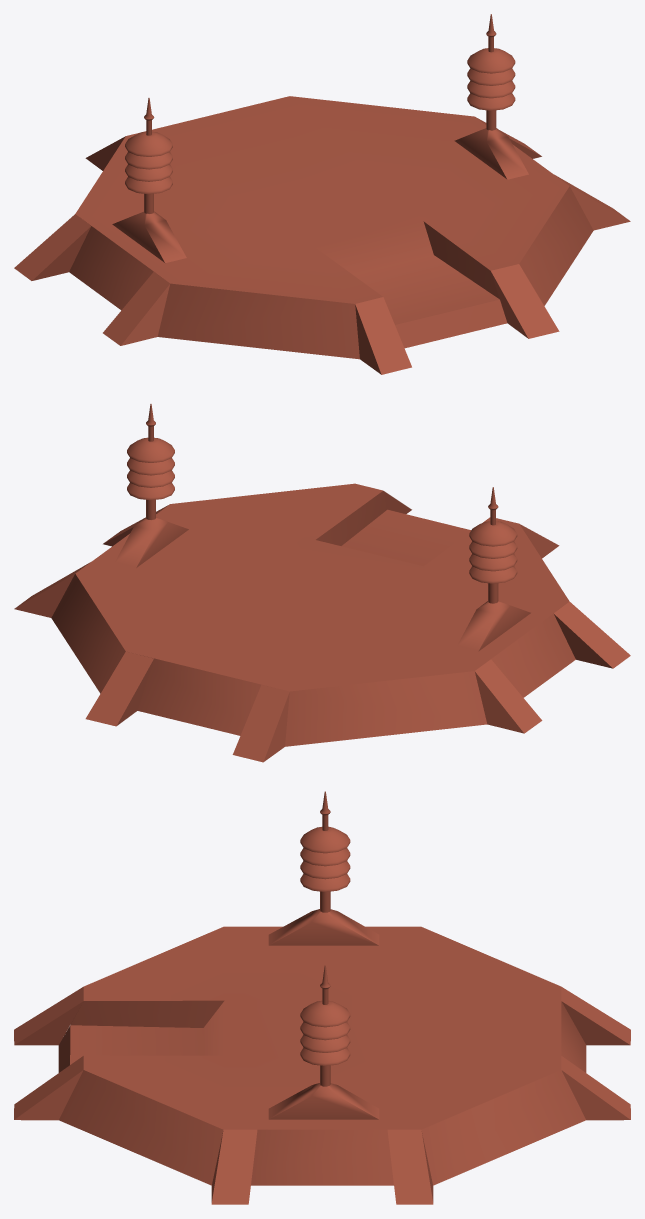
The model's file is Portal_LP.fbx.
3 views of the same model, one above another, from view 1: azimuth 30°, elevation 25°; view 2: azimuth 150°, elevation 25°; view 3: azimuth 270°, elevation 25° (orthographic). The views are drawn at different scales.
Visible parts, largest first — view 1: base, steps, base_isol1 (×2), pCylinder15 (×2), pCylinder2 (×2), pCylinder14 (×2), pCylinder13 (×2); view 2: base, steps, base_isol1 (×2), pCylinder15 (×2), pCylinder2 (×2), pCylinder14 (×2), pCylinder13 (×2); view 3: base, steps, base_isol1 (×2), pCylinder15 (×2), pCylinder14 (×2), pCylinder13 (×2), pCylinder2 (×2).
Part boxes in pixels (x1=…): base: x1=69, y1=96, x2=593, y2=359; steps: x1=14, y1=117, x2=630, y2=374; base_isol1 (×2): x1=112, y1=128, x2=528, y2=263; pCylinder15 (×2): x1=125, y1=48, x2=515, y2=156; pCylinder2 (×2): x1=125, y1=93, x2=515, y2=194; pCylinder14 (×2): x1=125, y1=68, x2=515, y2=169; pCylinder13 (×2): x1=125, y1=81, x2=515, y2=181; base: x1=51, y1=483, x2=575, y2=746; steps: x1=14, y1=491, x2=630, y2=762; base_isol1 (×2): x1=114, y1=517, x2=530, y2=651; pCylinder15 (×2): x1=127, y1=437, x2=517, y2=546; pCylinder2 (×2): x1=127, y1=483, x2=517, y2=583; pCylinder14 (×2): x1=127, y1=458, x2=517, y2=558; pCylinder13 (×2): x1=127, y1=470, x2=517, y2=571; base: x1=58, y1=926, x2=586, y2=1185; steps: x1=14, y1=987, x2=630, y2=1204; base_isol1 (×2): x1=268, y1=909, x2=379, y2=1119; pCylinder15 (×2): x1=300, y1=826, x2=350, y2=1027; pCylinder14 (×2): x1=300, y1=848, x2=350, y2=1040; pCylinder13 (×2): x1=300, y1=861, x2=350, y2=1052; pCylinder2 (×2): x1=300, y1=874, x2=350, y2=1065.
Bounding box in the file's own units: 472 × 166 × 474.
